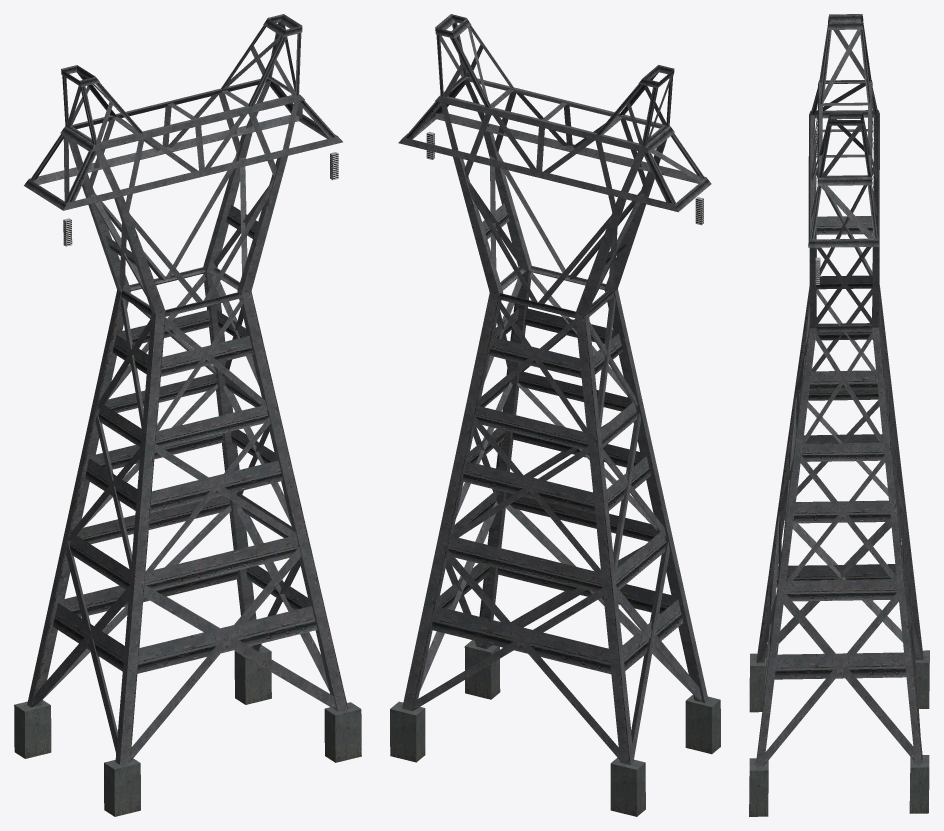
Rendered from Electricalwire.FBX.
The picture shows the model from 3 angles, left to right: view 1: azimuth 30°, elevation 25°; view 2: azimuth 150°, elevation 25°; view 3: azimuth 270°, elevation 25°; orthographic projection. The views are drawn at different scales.
Visible parts, largest first — view 1: Electricalwire; view 2: Electricalwire; view 3: Electricalwire.
Boxes of the visible parts, <box> form: Electricalwire: <box>14,14,361,816</box>; Electricalwire: <box>390,14,720,816</box>; Electricalwire: <box>749,14,929,816</box>.
Bounding box in the file's own units: 822 × 466 × 1959.
